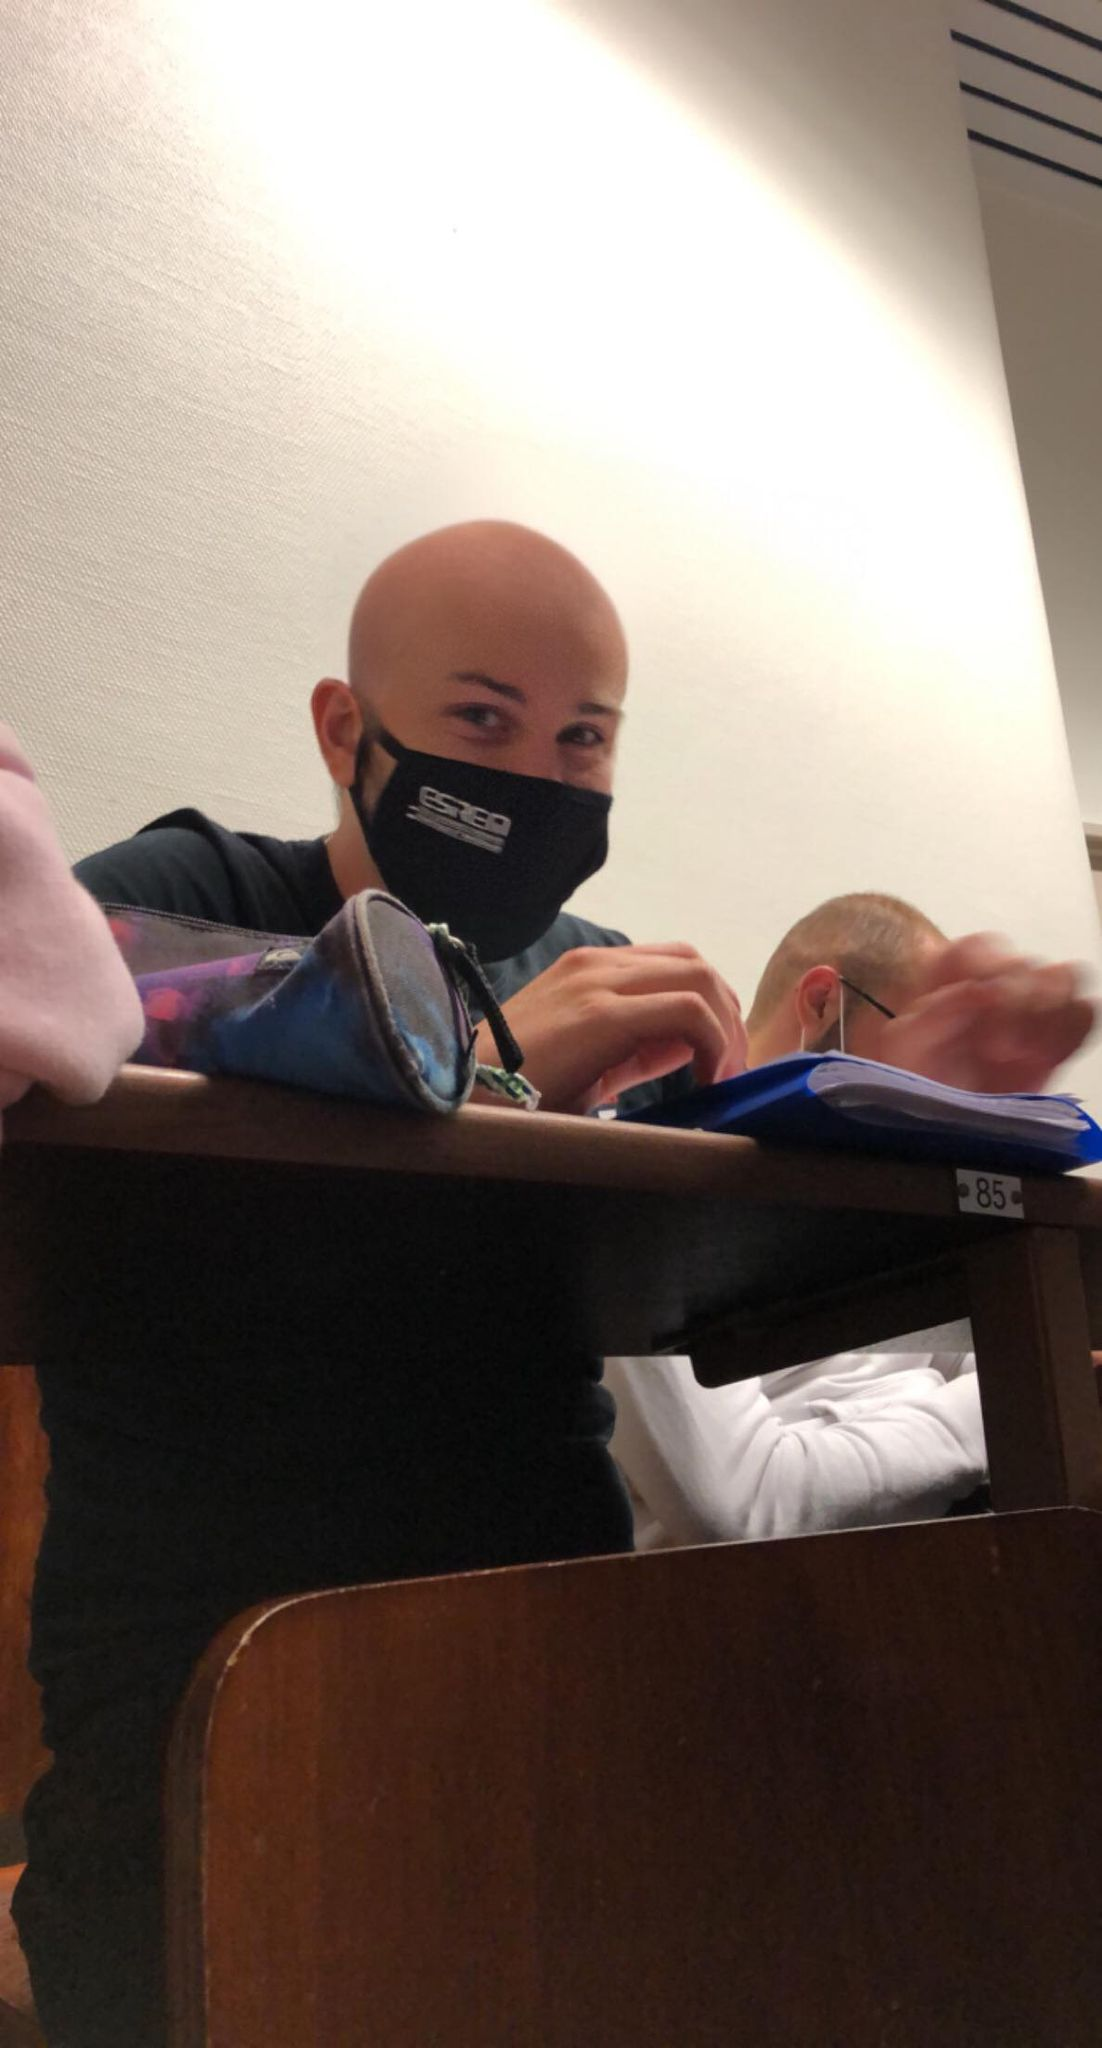with_mask: (373, 570, 629, 951)
